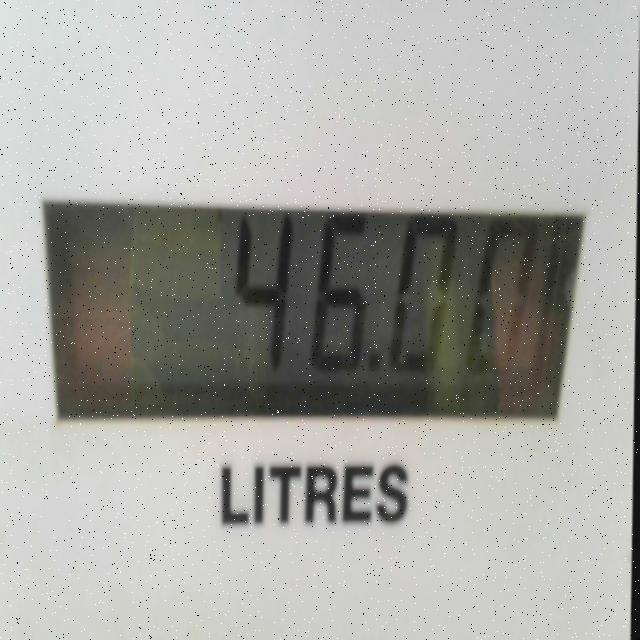.: (360, 337, 390, 398)
0: (464, 216, 547, 392), (386, 210, 460, 383)
1: (212, 213, 302, 381)
6: (307, 211, 379, 393)
